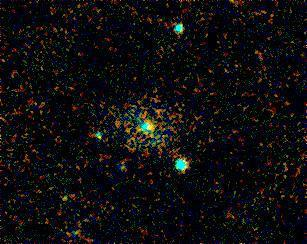star: (50, 181, 80, 211)
